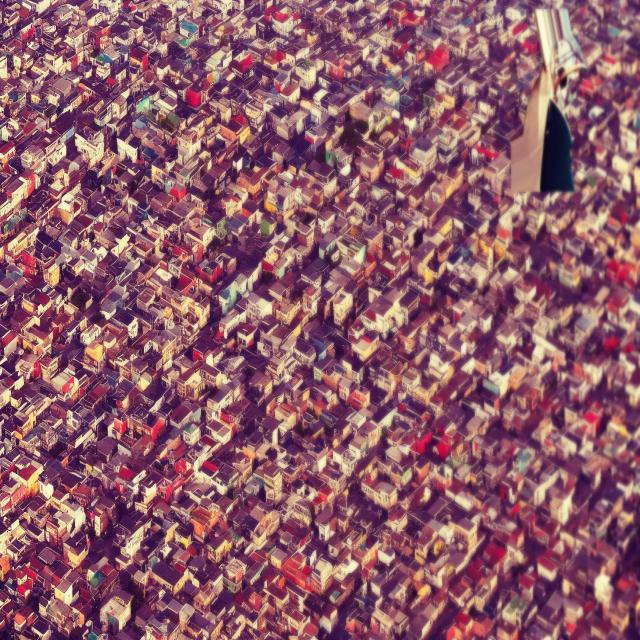airplane: (504, 5, 588, 198)
